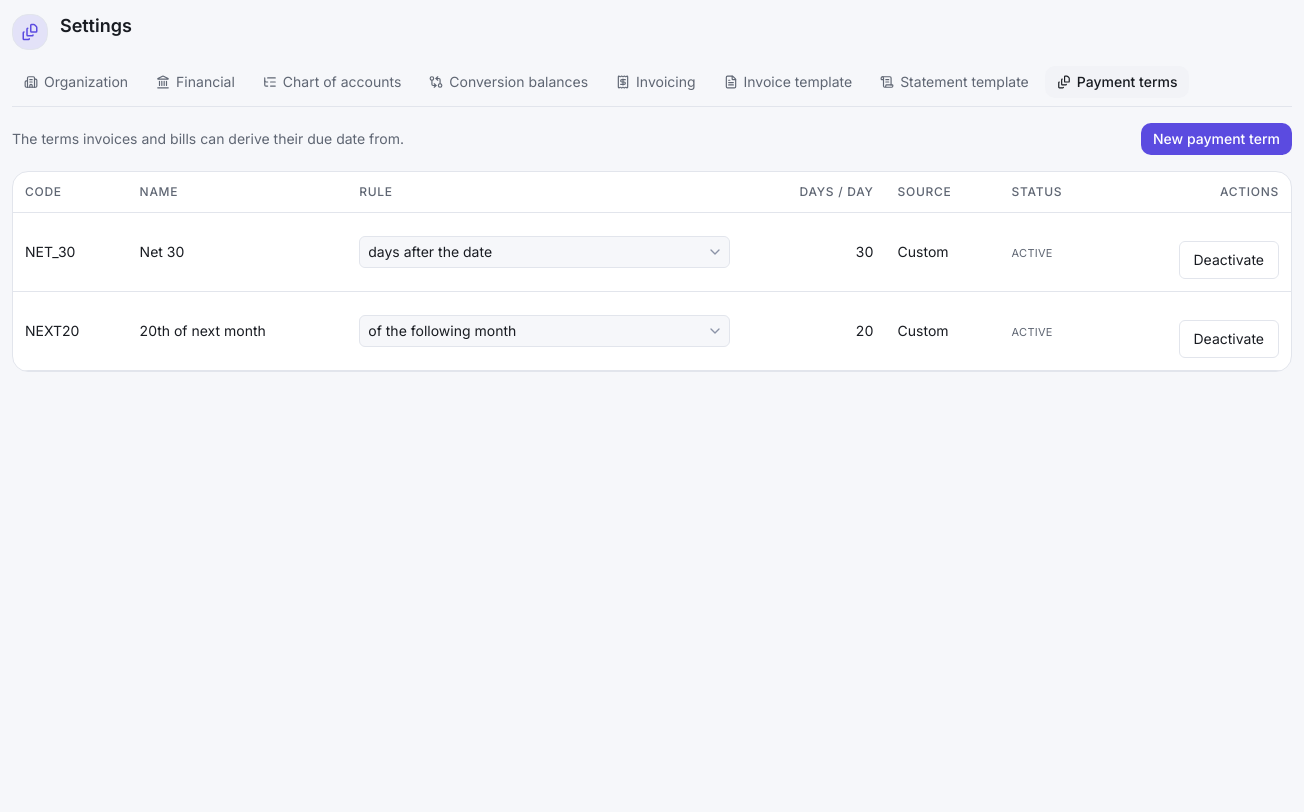
Test: the payment-term form › shows "Day of month" for a DAY_OF_NEXT_MONTH rule
expect the text "NET_30" is shown: met, box [13, 212, 128, 292]
Click the button "New payment term": (1216, 139) [1141, 123, 1292, 155]
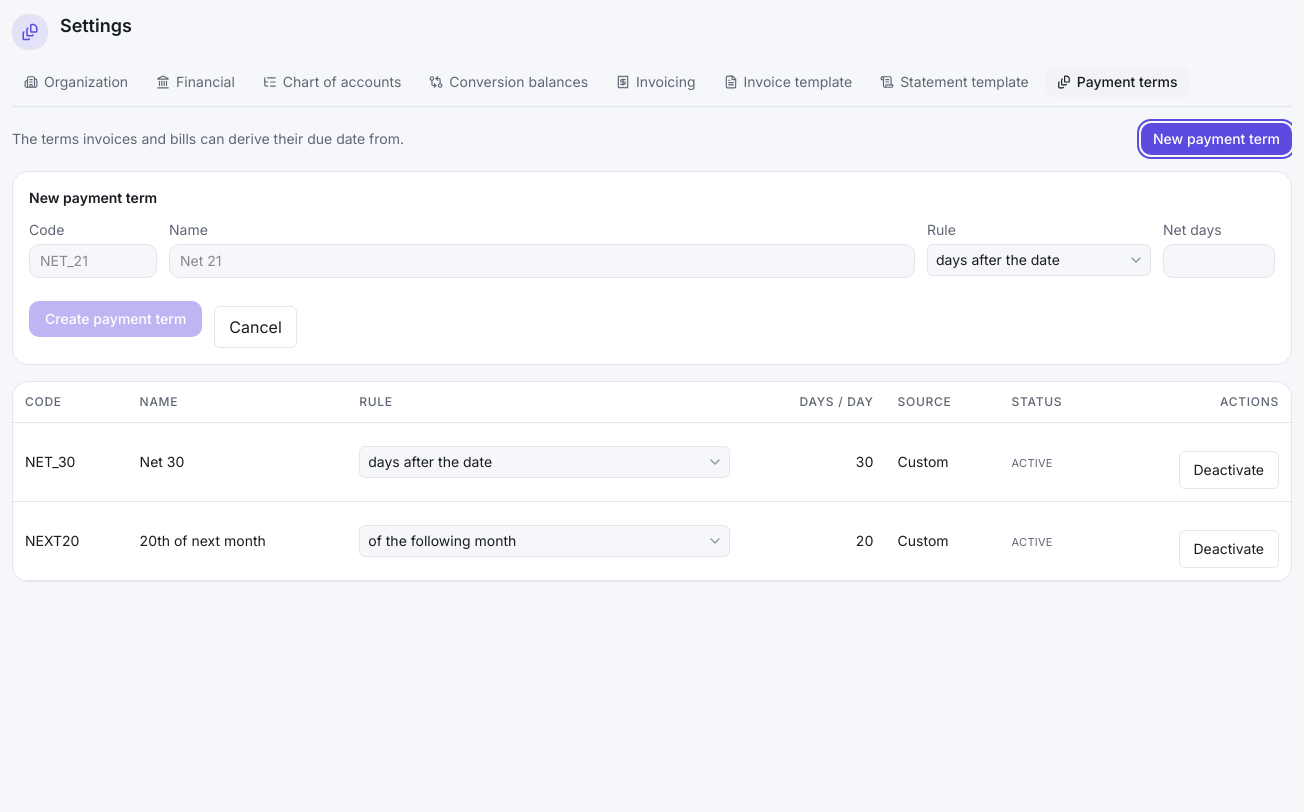
expect the number field labelled "Net days" is shown: met, box [1163, 244, 1275, 278]
Select "of the following month" in the dropdown labelled "Rule": (1039, 260) [927, 244, 1151, 276]
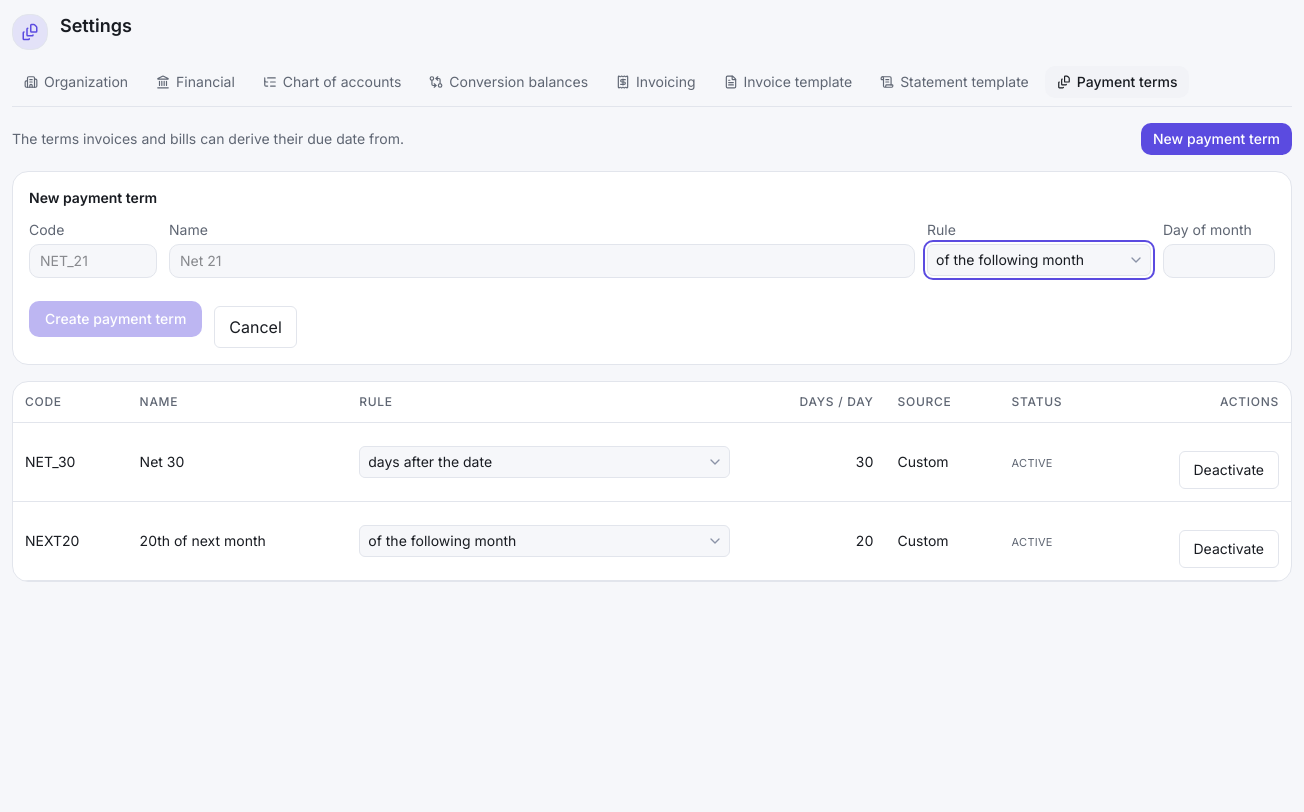
expect the number field labelled "Day of month" is shown: met, box [1163, 244, 1275, 278]
expect the text labelled "Net days" is gone: met
